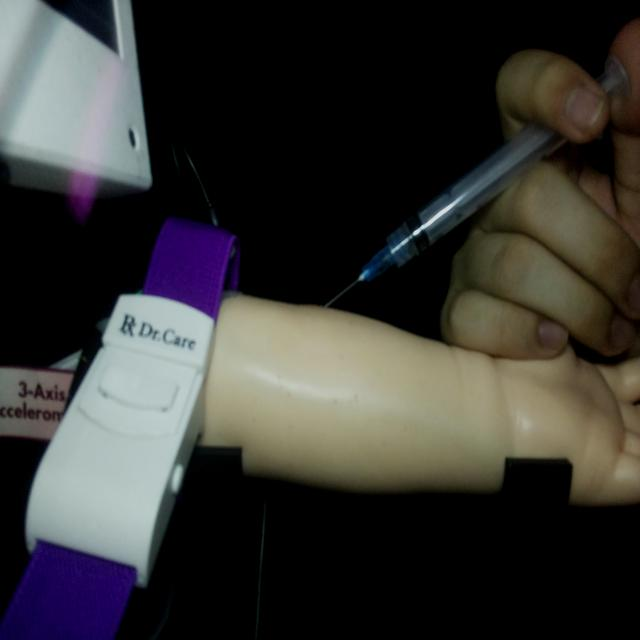29 degrees: (322, 51, 629, 307)
